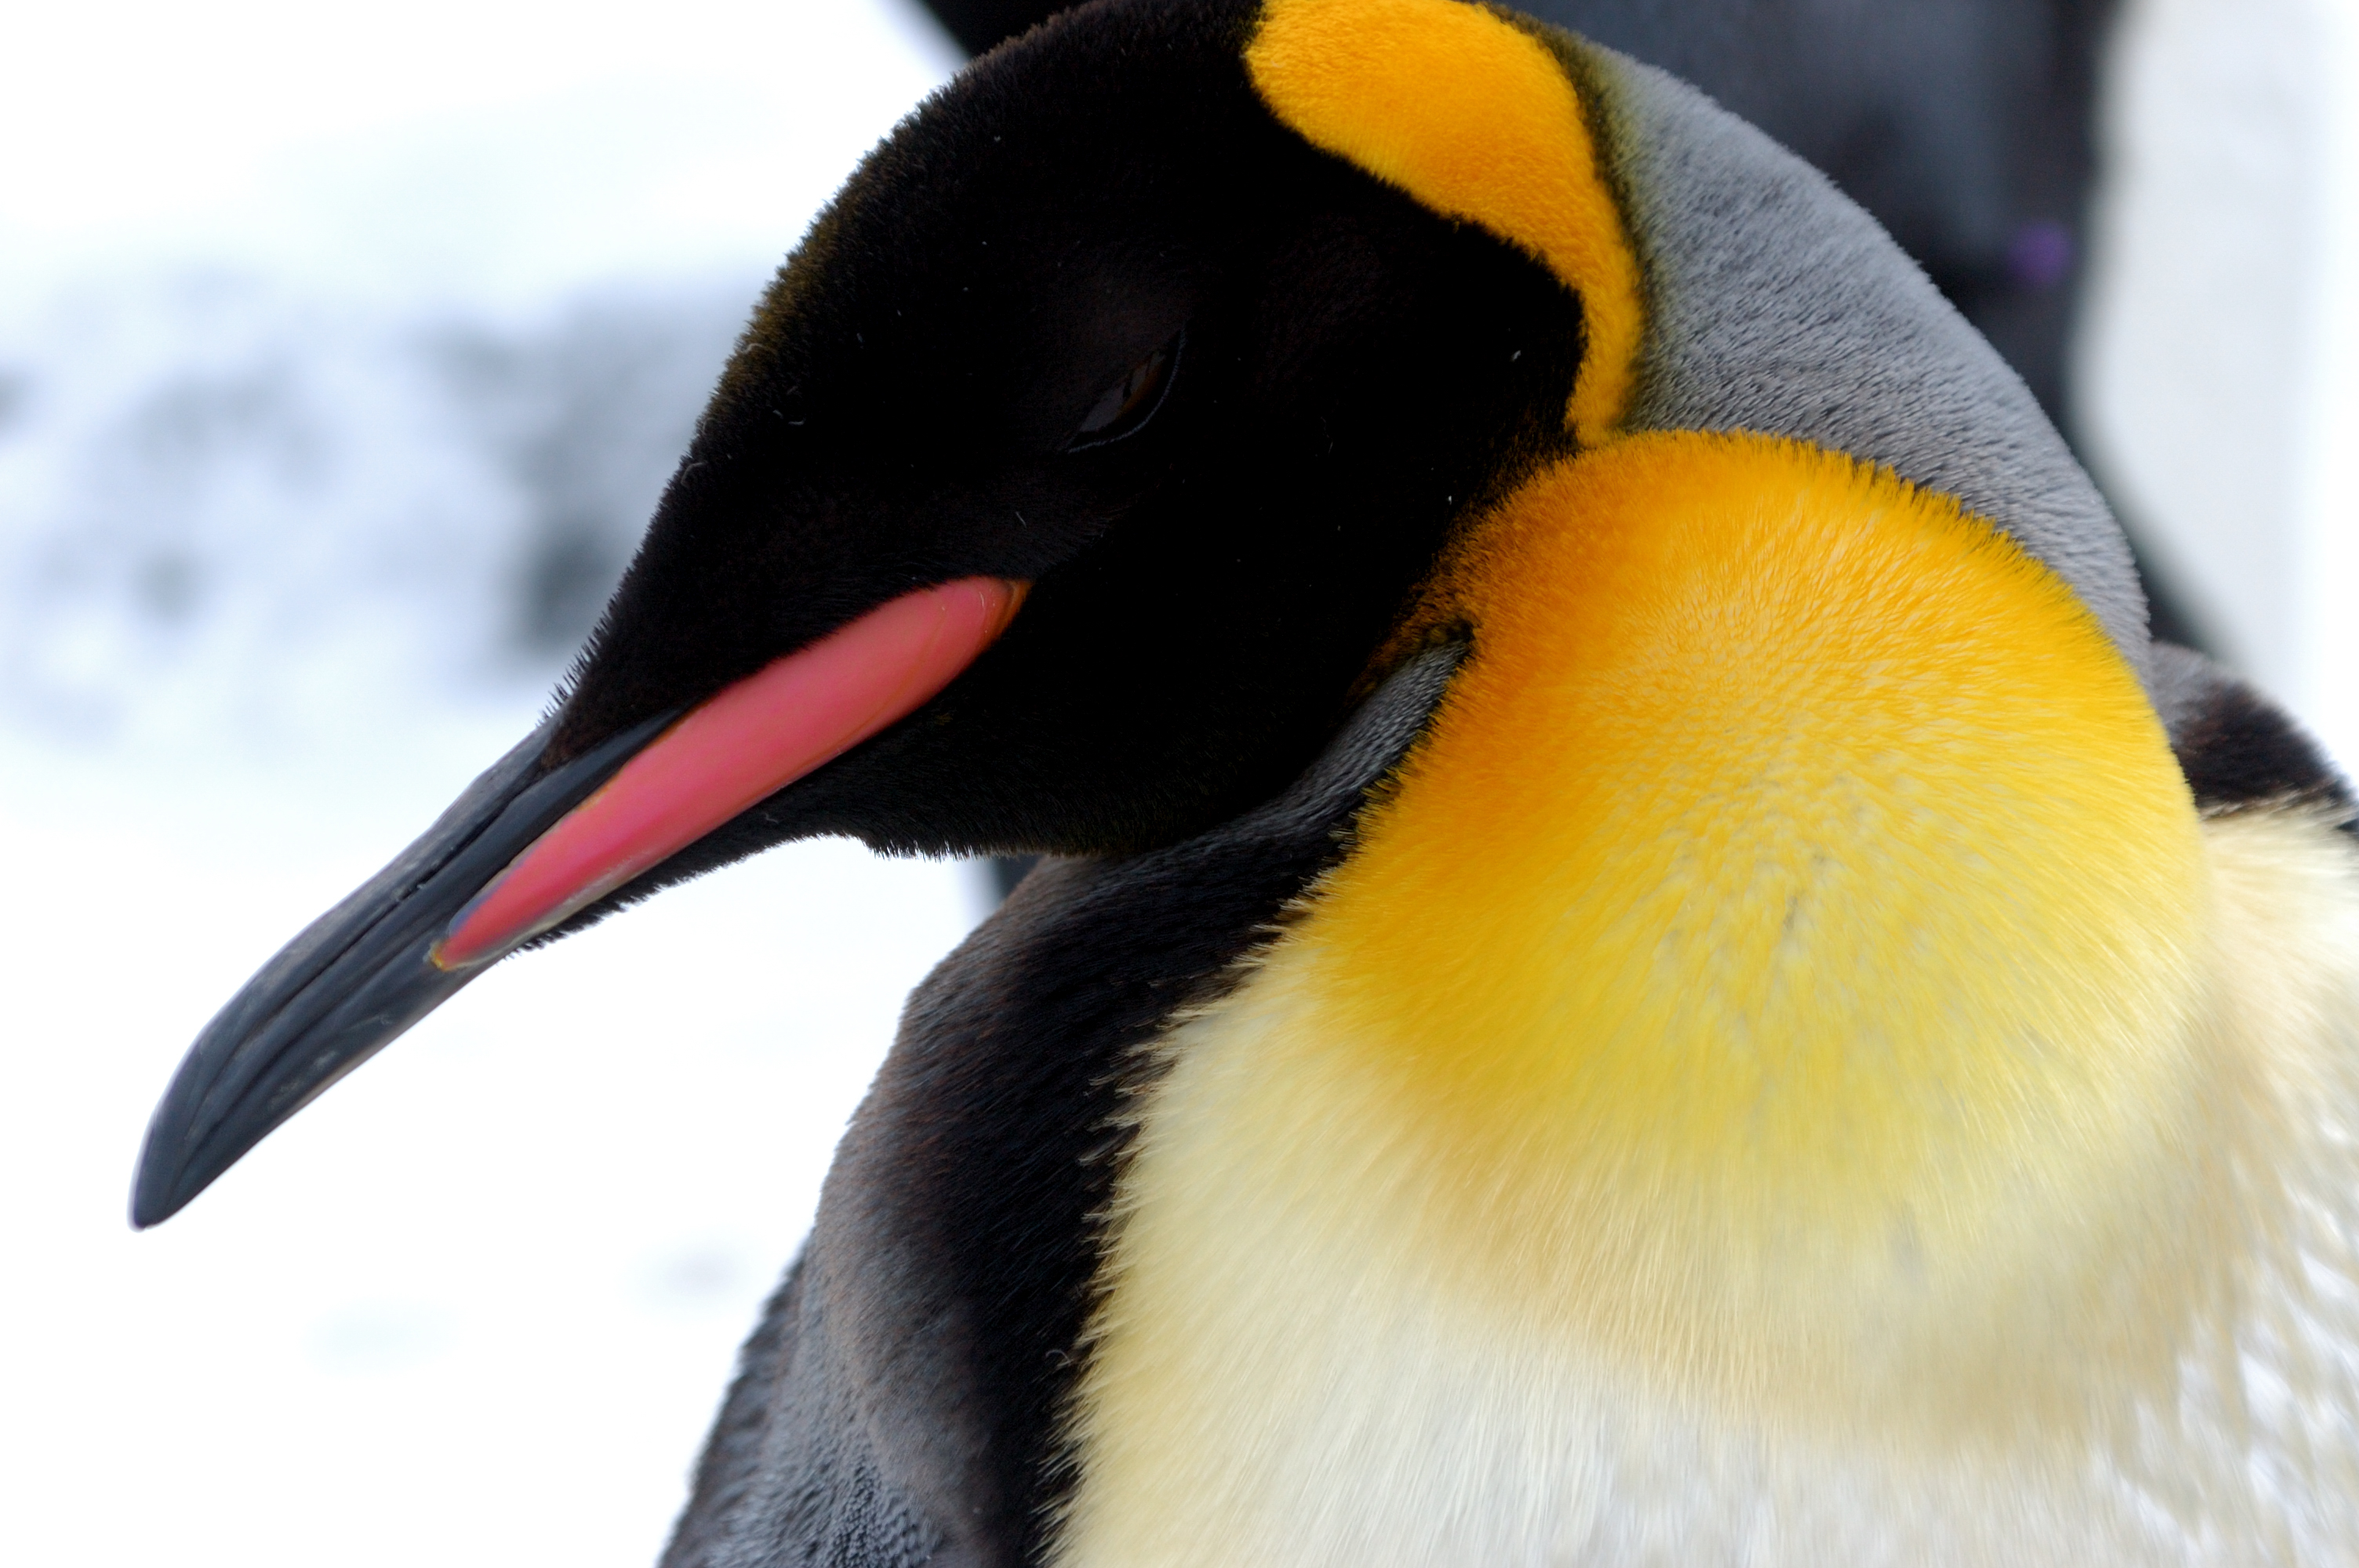penguin: (138, 7, 2359, 1563)
